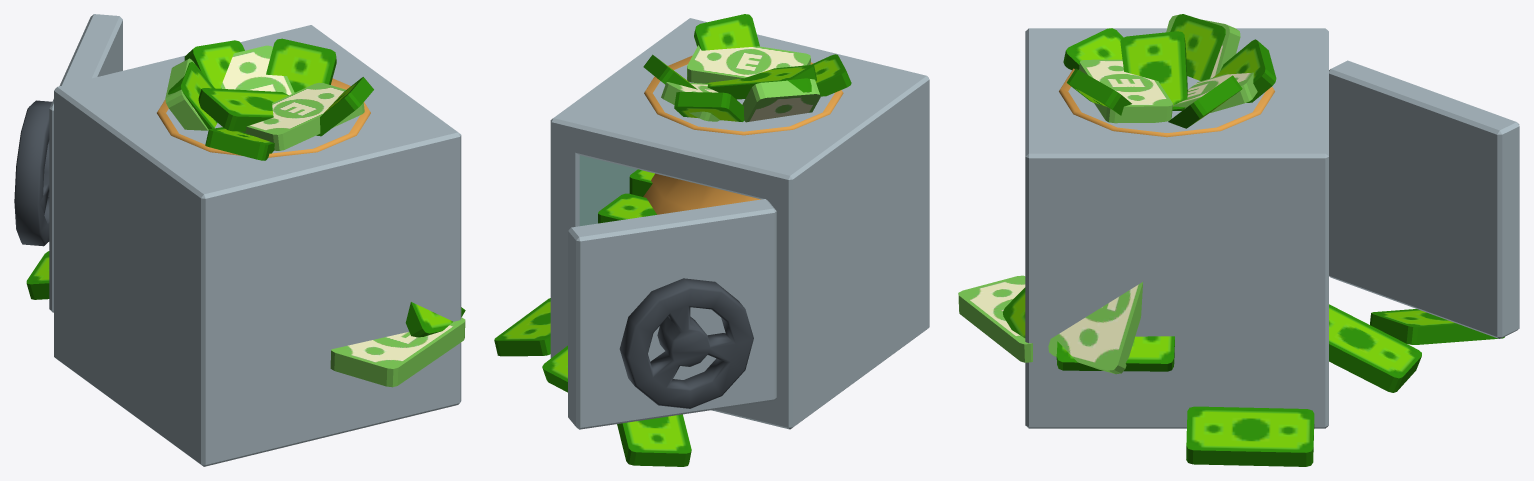
Rendered from BoostArea_Money.fbx.
3 views of the same model, side by side, from view 1: azimuth 30°, elevation 25°; view 2: azimuth 150°, elevation 25°; view 3: azimuth 270°, elevation 25° (orthographic). The views are drawn at different scales.
Parts seen in each view (by area): view 1: Money_safe1, Money_safe3, Money_safe2; view 2: Money_safe1, Money_safe2, Money_safe3; view 3: Money_safe1, Money_safe2, Money_safe3.
Part boxes in pixels (x1=…): Money_safe1: x1=14, y1=14, x2=461, y2=466; Money_safe3: x1=158, y1=45, x2=465, y2=387; Money_safe2: x1=157, y1=38, x2=465, y2=337; Money_safe1: x1=494, y1=18, x2=929, y2=466; Money_safe2: x1=643, y1=14, x2=851, y2=212; Money_safe3: x1=644, y1=45, x2=836, y2=214; Money_safe1: x1=1025, y1=28, x2=1519, y2=466; Money_safe2: x1=1003, y1=14, x2=1276, y2=371; Money_safe3: x1=958, y1=15, x2=1272, y2=374.
Size of the model in its own units: 147 by 137 by 214.
Materials: 3 (3 with a texture image).
